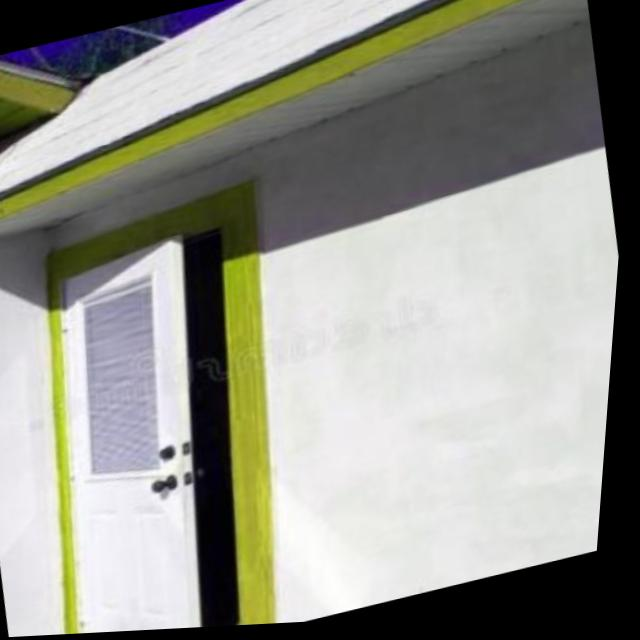door_handle: (154, 467, 201, 507)
